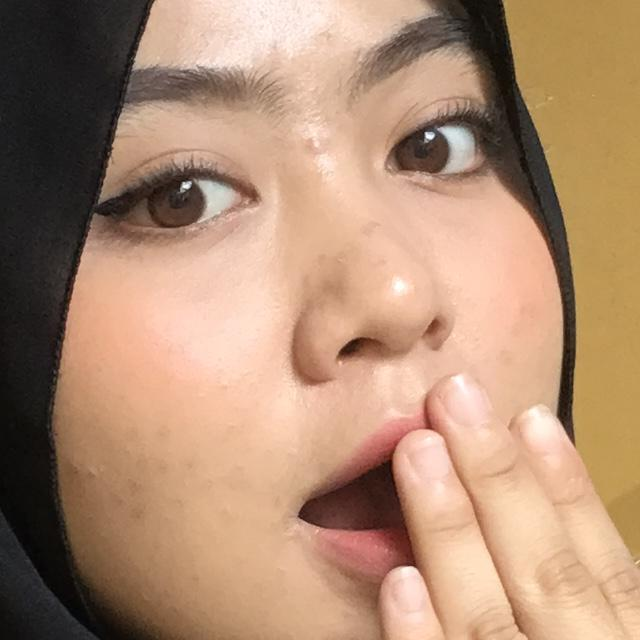ngantuk: (335, 351, 640, 640)
